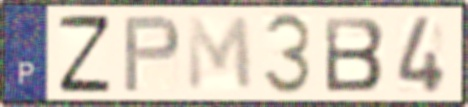3: (259, 10, 314, 98)
4: (394, 13, 448, 97)
B: (321, 14, 387, 94)
M: (184, 14, 256, 94)
P: (121, 13, 184, 94)
Z: (55, 12, 114, 95)
